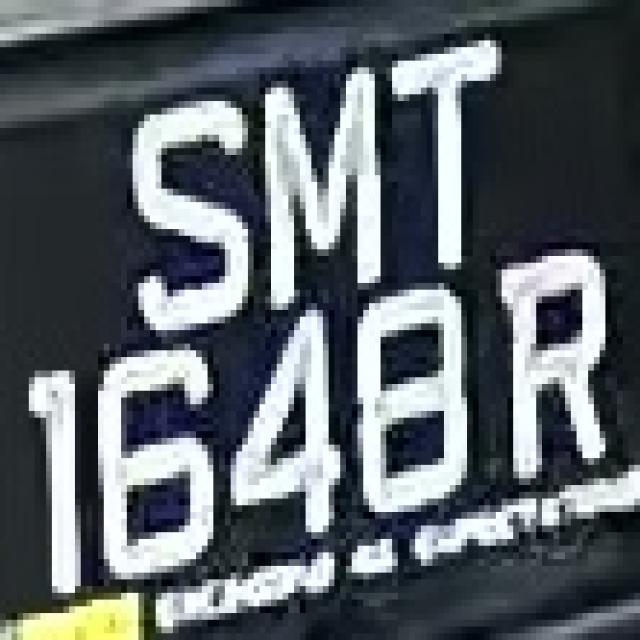1: (23, 323, 98, 640)
4: (219, 310, 346, 566)
6: (86, 283, 230, 593)
8: (335, 276, 490, 552)
M: (254, 68, 392, 304)
R: (473, 222, 628, 512)
S: (115, 108, 248, 350)
T: (381, 34, 513, 303)
